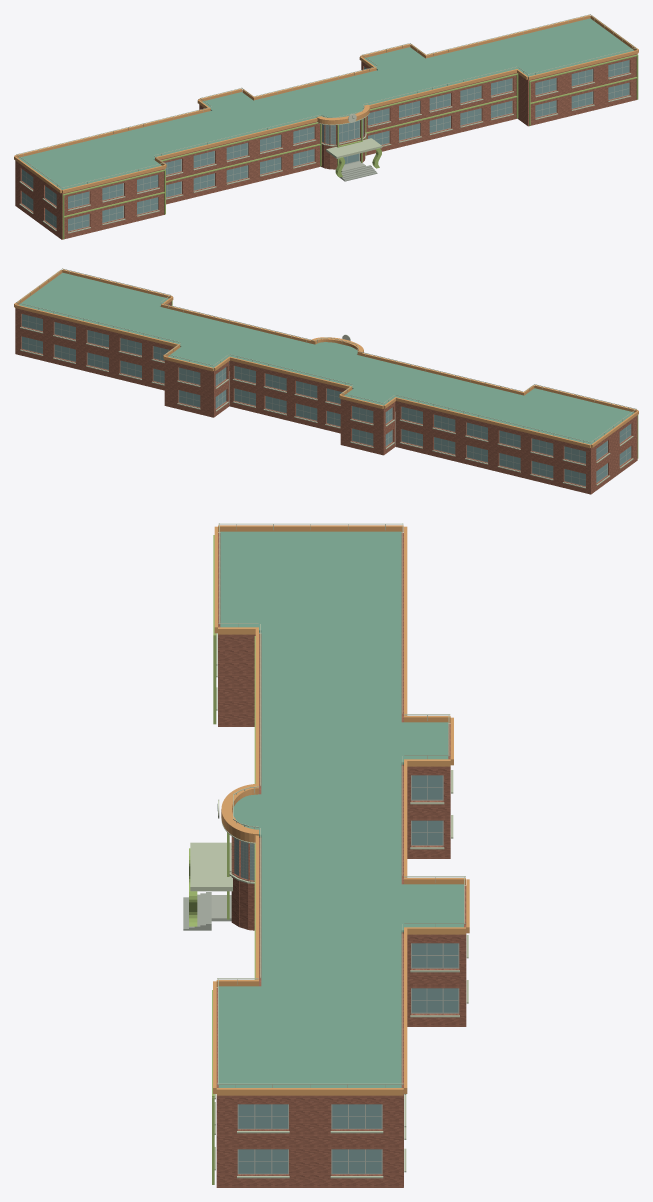
The picture shows the model from 3 angles, top to bottom: view 1: azimuth 30°, elevation 25°; view 2: azimuth 150°, elevation 25°; view 3: azimuth 270°, elevation 25°; orthographic projection. The views are drawn at different scales.
Visible parts, largest first — view 1: rear__roof, rear__brick, rear__glass, rear__orange, rear__trim, rear__lime, rear__frame, rear; view 2: rear__roof, rear__brick, rear__glass, rear__orange, rear__trim, rear__frame; view 3: rear__roof, rear__brick, rear__orange, rear__glass, rear__trim, rear__frame, rear__lime.
Part boxes in pixels (x1,y1,x2,y2): rear__roof: [18, 18, 633, 189]; rear__brick: [15, 54, 637, 239]; rear__glass: [22, 60, 629, 230]; rear__orange: [14, 15, 638, 193]; rear__trim: [16, 14, 636, 233]; rear__lime: [62, 54, 638, 239]; rear__frame: [21, 60, 629, 231]; rear: [340, 165, 377, 181]; rear__roof: [19, 272, 634, 444]; rear__brick: [15, 301, 637, 494]; rear__glass: [22, 314, 630, 485]; rear__orange: [14, 269, 638, 448]; rear__trim: [16, 268, 636, 488]; rear__frame: [21, 314, 631, 486]; rear__roof: [218, 531, 463, 1087]; rear__brick: [216, 533, 466, 1187]; rear__orange: [213, 525, 469, 1095]; rear__glass: [238, 775, 458, 1173]; rear__trim: [190, 523, 468, 1178]; rear__frame: [237, 775, 459, 1174]; rear__lime: [189, 535, 255, 1184].
Bounding box in the file's own units: 94.08 × 8.88 × 20.18.
Materials: 18 (1 with a texture image).
